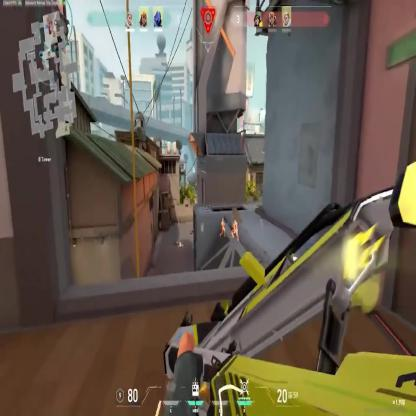enemy: (231, 219, 239, 242), (219, 217, 226, 238)
enemy_head: (234, 219, 236, 223), (222, 218, 224, 221)
